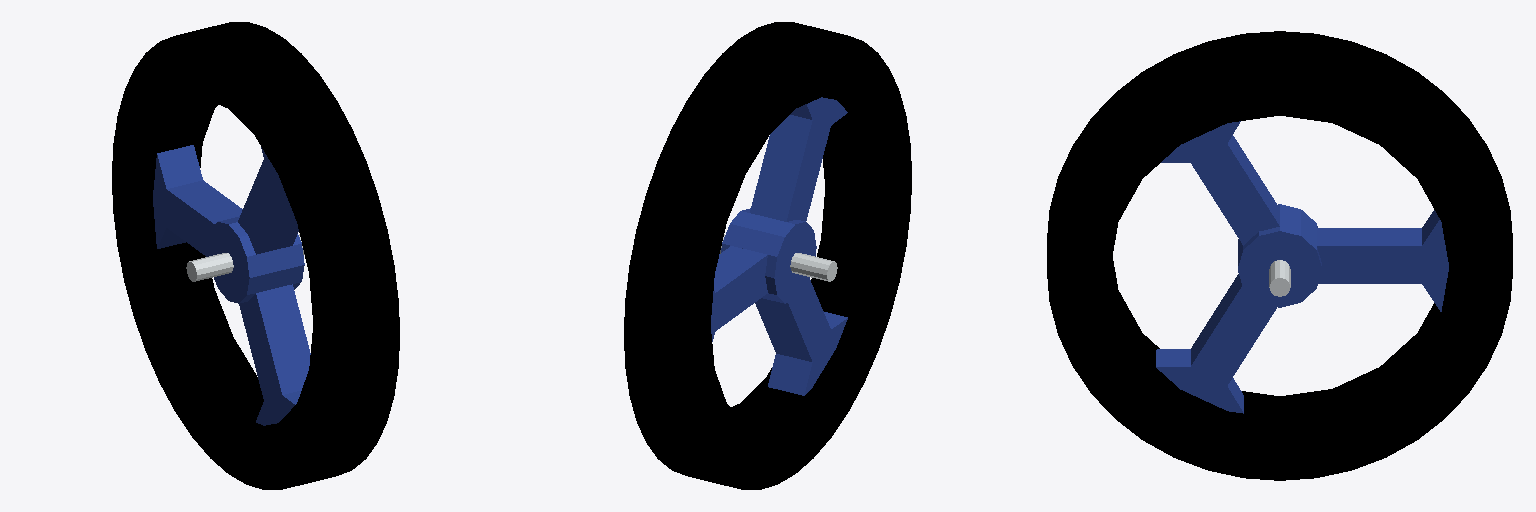
File: f_wheel.obj
The picture shows the model from 3 angles: view 1: azimuth 30°, elevation 25°; view 2: azimuth 150°, elevation 25°; view 3: azimuth 270°, elevation 25°; orthographic projection.
Parts seen in each view (by area): view 1: obj_0.002; view 2: obj_0.002; view 3: obj_0.002.
Boxes of the visible parts, box(x1,y1,x2,y2) form: obj_0.002: box(112, 22, 399, 489); obj_0.002: box(624, 22, 911, 489); obj_0.002: box(1047, 31, 1512, 480).
Bounding box in the file's own units: 35 × 110 × 110.